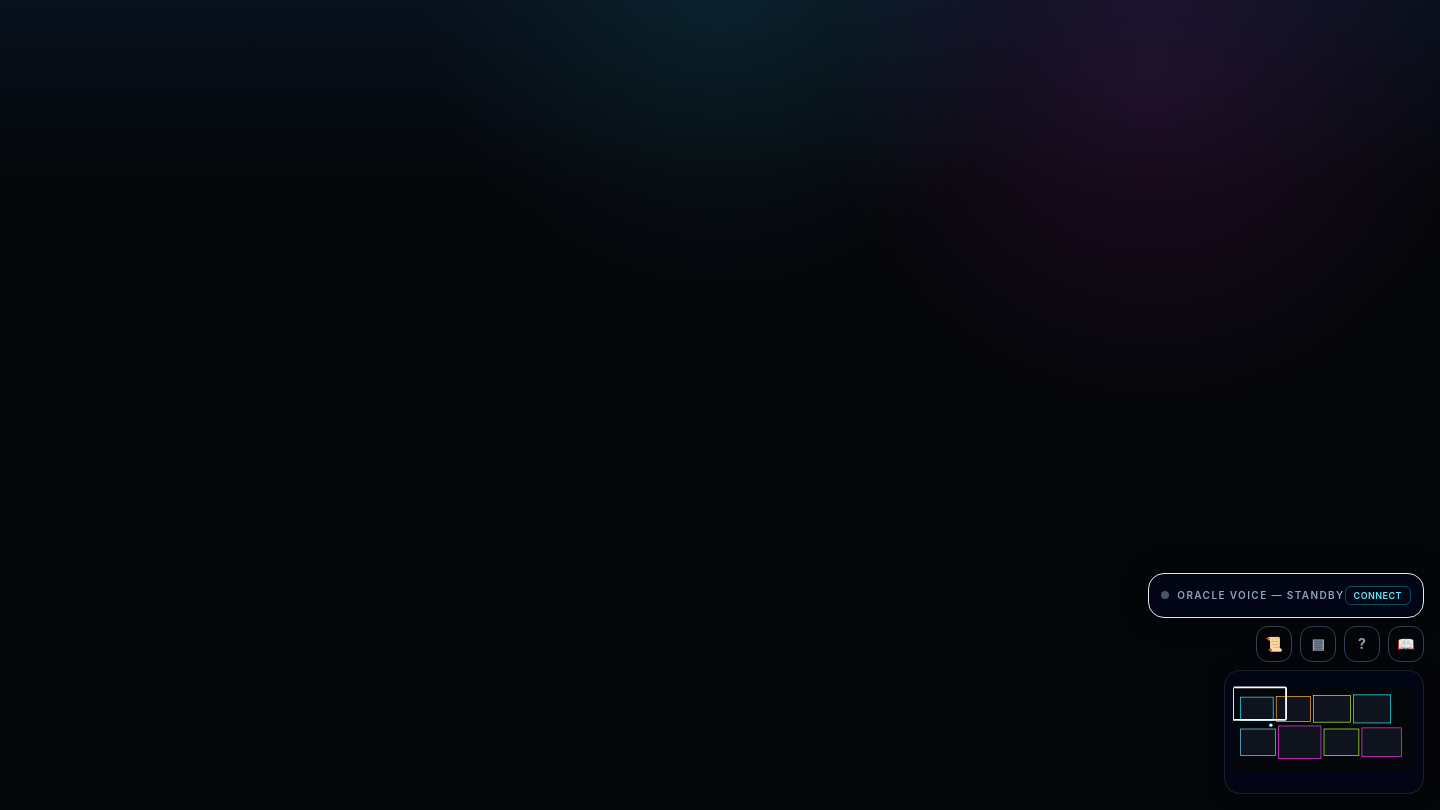
Scenario: FloatingMinimap › clicking Legend button toggles legend panel
The width and height of the screenshot is (1440, 810).
What coordinates should you click on to do the following:
click the button named "Legend"
I would click on:
 (1362, 644)
Its box is [1344,626,1380,662].
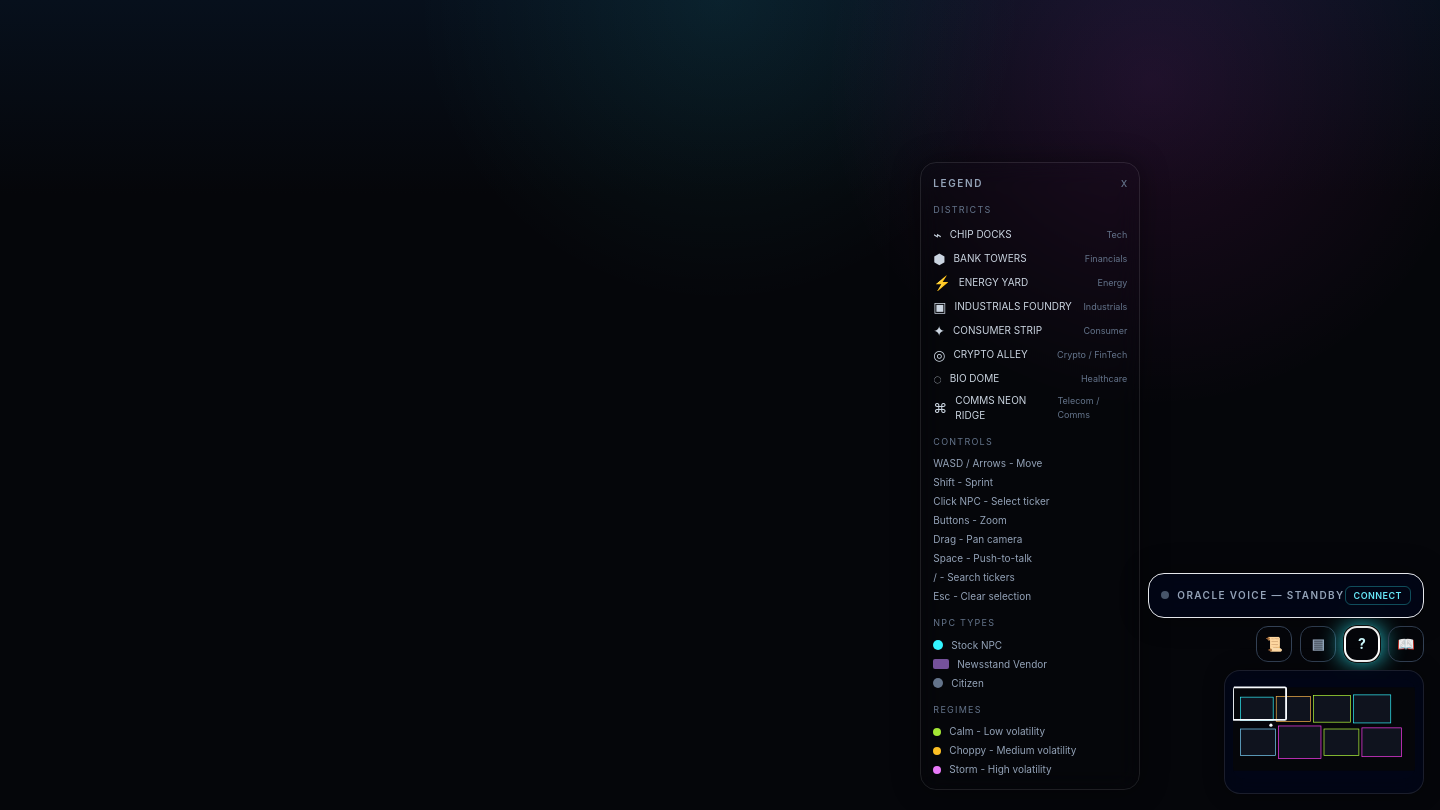
Result: the text "Legend" is shown at [933,176,983,190]
Result: the text "Districts" is shown at [933,204,992,215]
